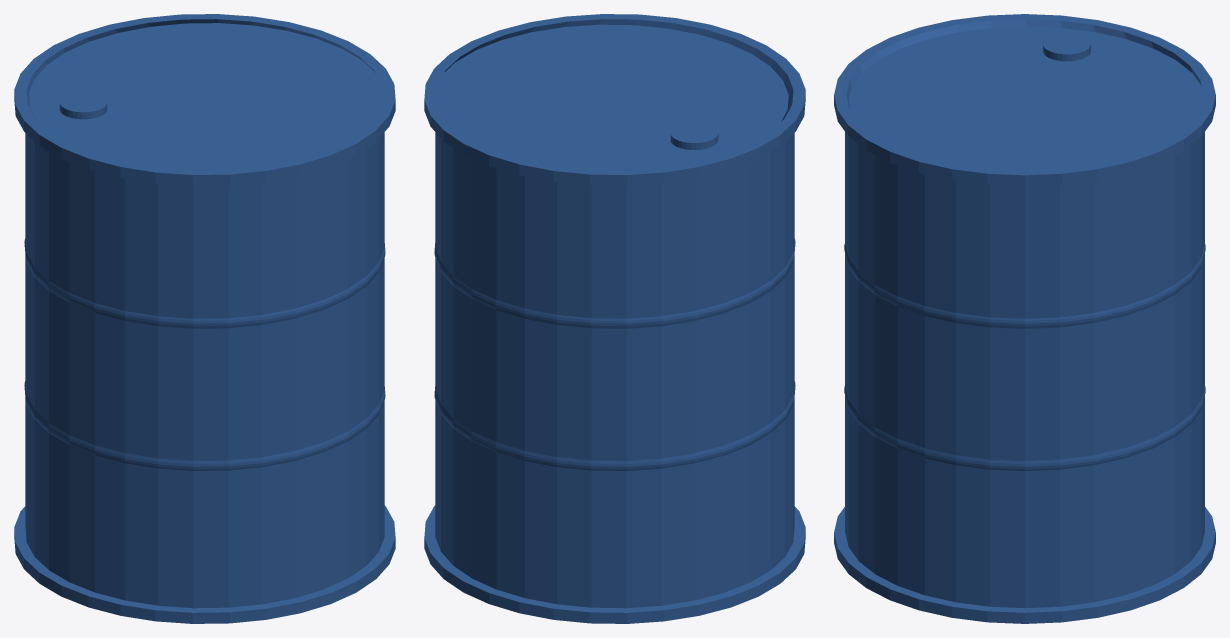
File: ChemicalBarrel.fbx
3 renders of one model, left to right at view 1: azimuth 30°, elevation 25°; view 2: azimuth 150°, elevation 25°; view 3: azimuth 270°, elevation 25°, orthographic.
Parts seen in each view (by area): view 1: FuelBarrel; view 2: FuelBarrel; view 3: FuelBarrel.
Boxes of the visible parts, x1=… form: FuelBarrel: x1=14, y1=14, x2=395, y2=623; FuelBarrel: x1=424, y1=14, x2=805, y2=623; FuelBarrel: x1=834, y1=14, x2=1215, y2=623.
Size of the model in its own units: 97.04 by 126 by 97.04.
